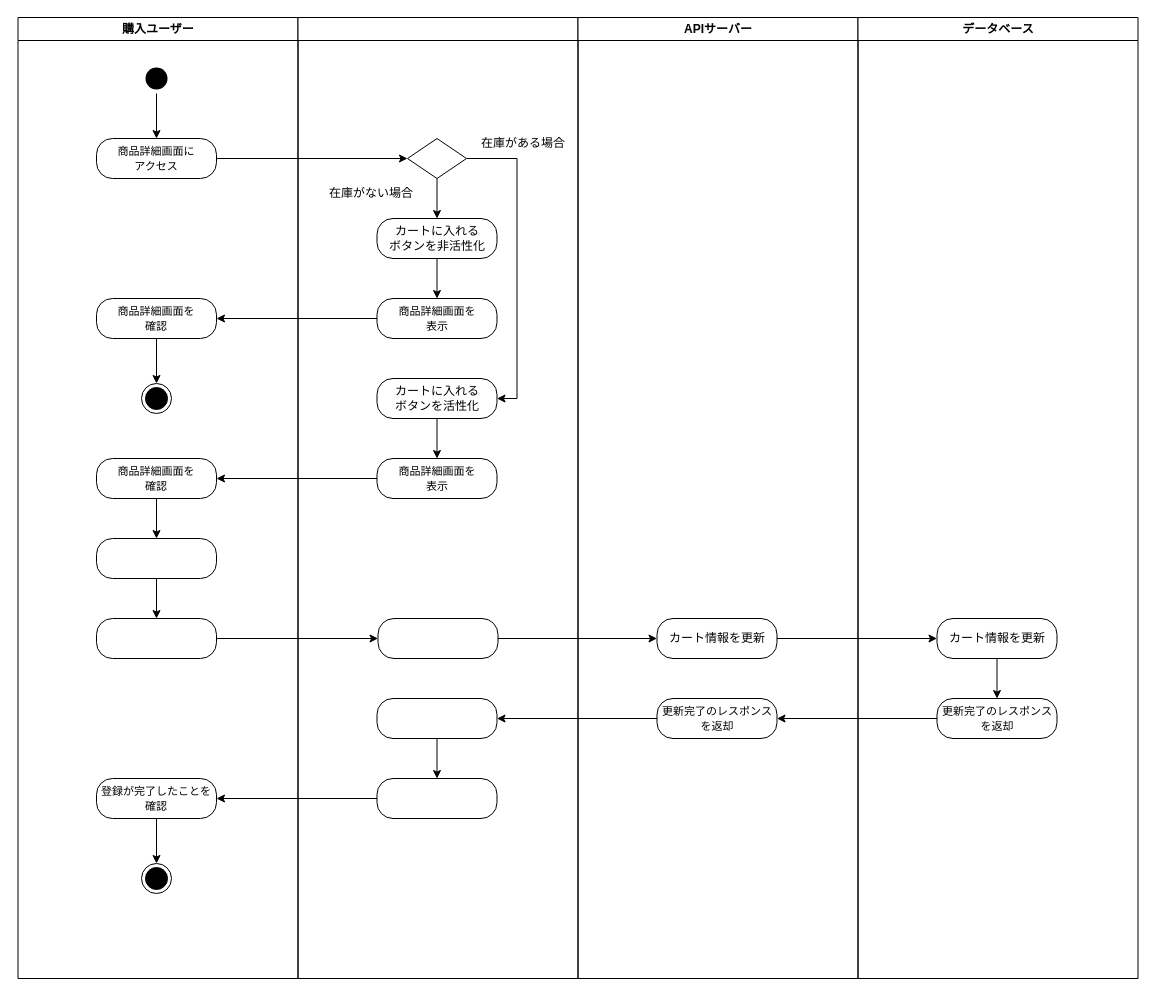
This 1155x996 diagram has some shape labels left out. The box of each missing label's shape, as (x1, y1, x2, y2) in pixels:
APIリクエストを送信: (377, 618, 498, 658)
ECサイト画面: (297, 16, 578, 978)
カートに入れるボタンを押下: (96, 618, 216, 658)
カートに入れる個数を選択: (96, 538, 216, 578)
カートの登録件数表示を更新: (376, 698, 497, 738)
商品詳細画面に 登録完了の メッセージを表示: (376, 778, 497, 818)
